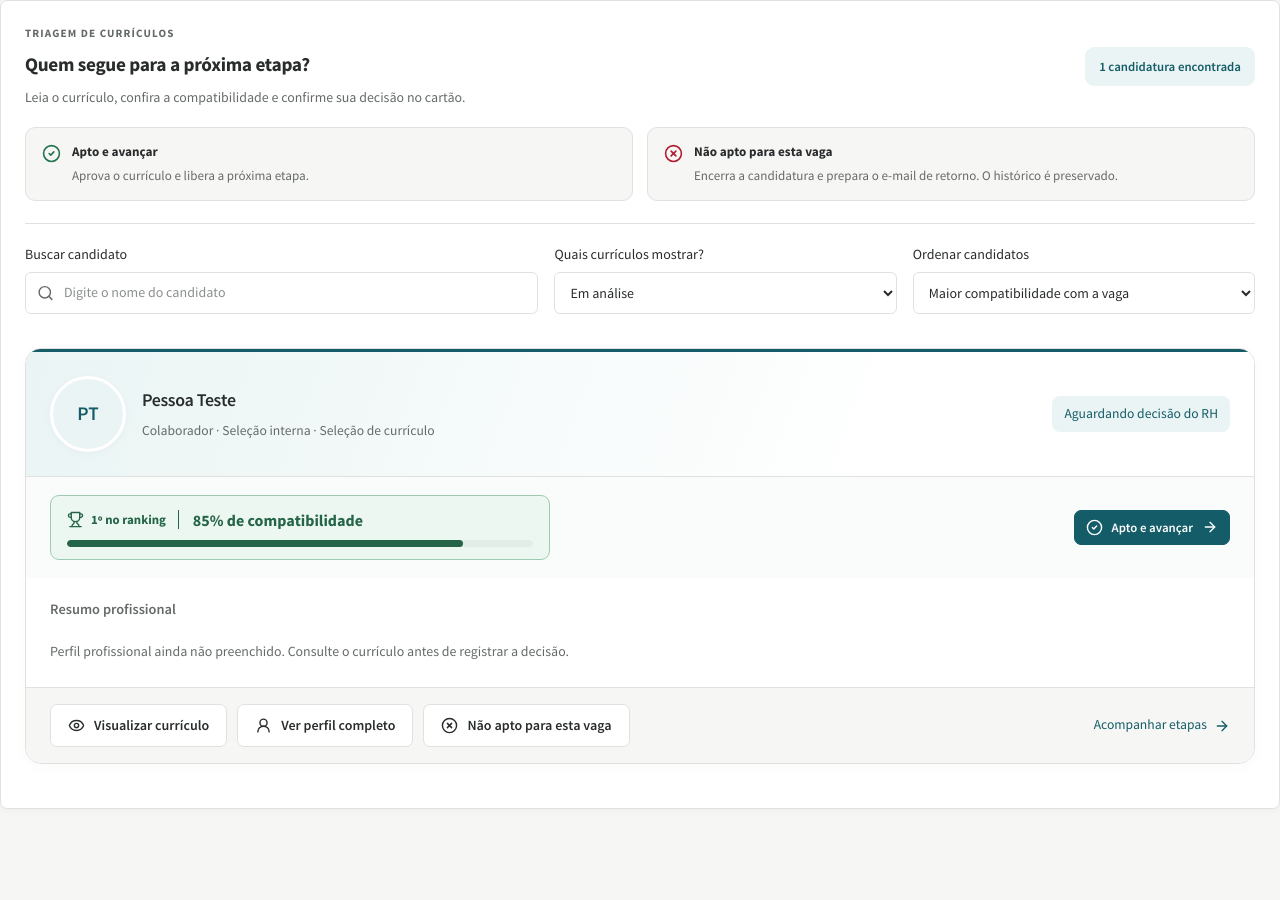
Test: exige justificativa e confirmação antes de encerrar somente a candidatura escolhida
This screenshot has width=1280, height=900.
Click the button "Não apto para esta vaga": (527, 726) [423,704,630,747]
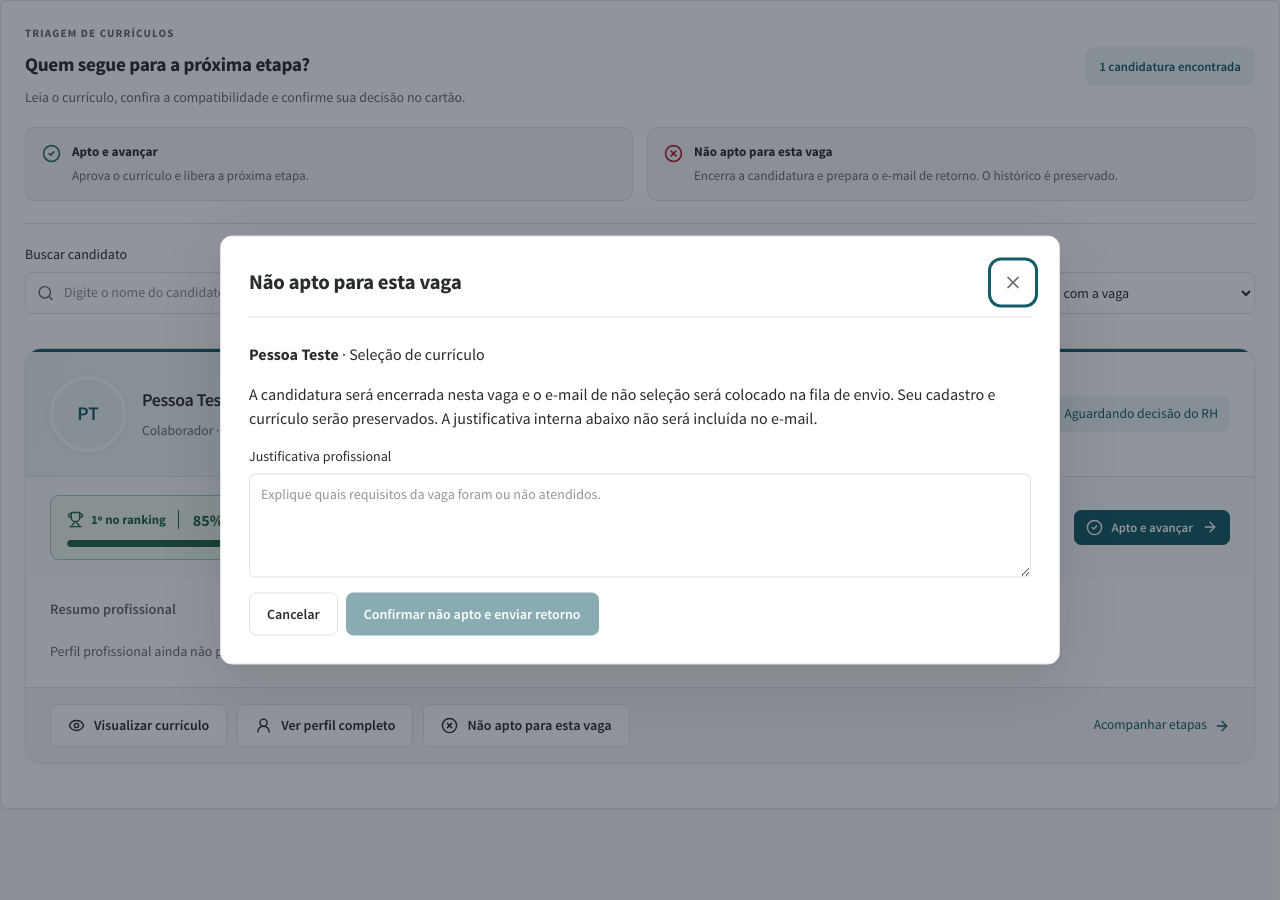
Check: the button "Confirmar não apto e enviar retorno" is disabled, box [346,592,598,636]
In the text box labelled "Justificativa profissional": (640, 526) [249,474,1031,578], type "Experiência exigida para a função não comprovada"
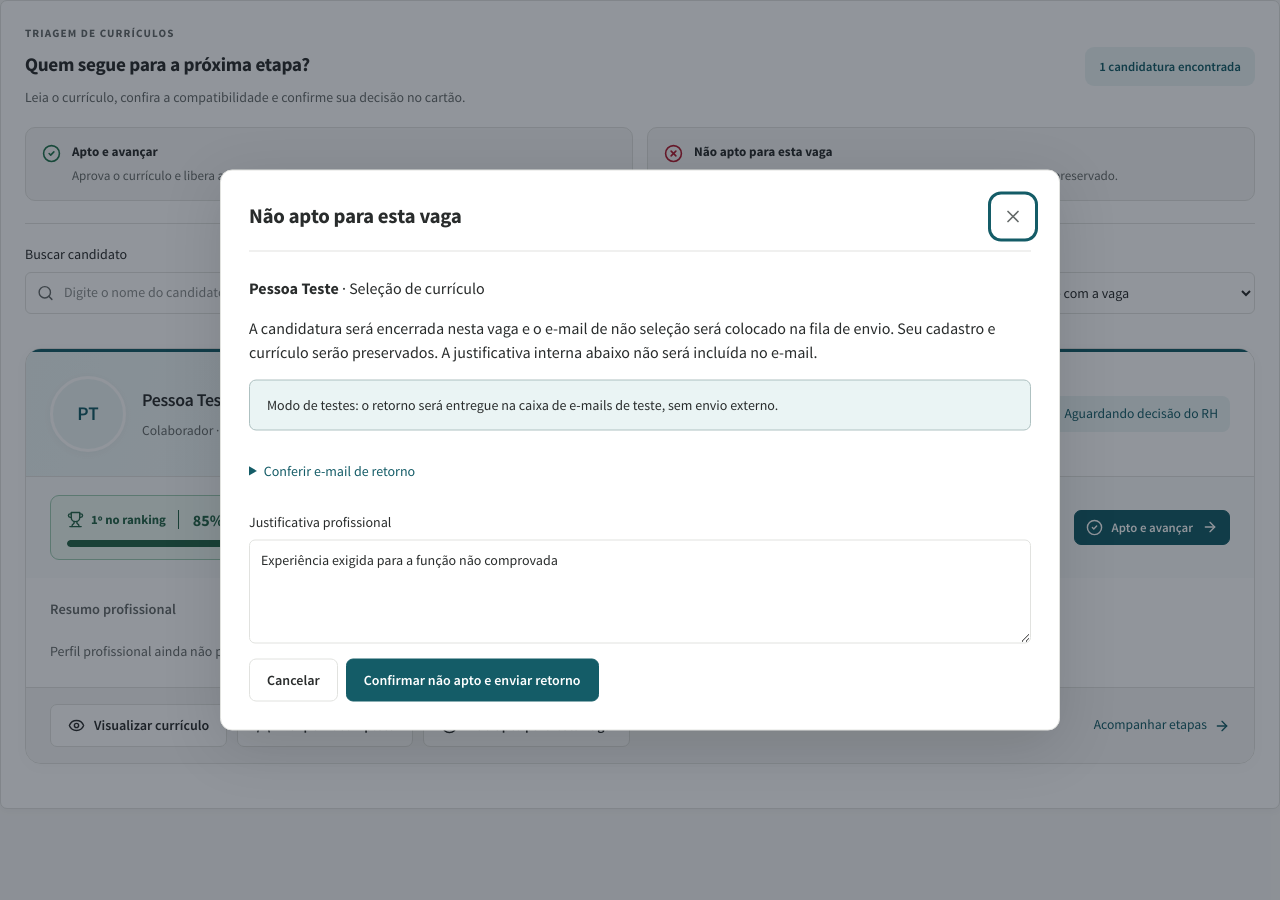
Check: the button "Confirmar não apto e enviar retorno" is enabled
Click the button "Confirmar não apto e enviar retorno": (472, 680) [346,658,598,702]
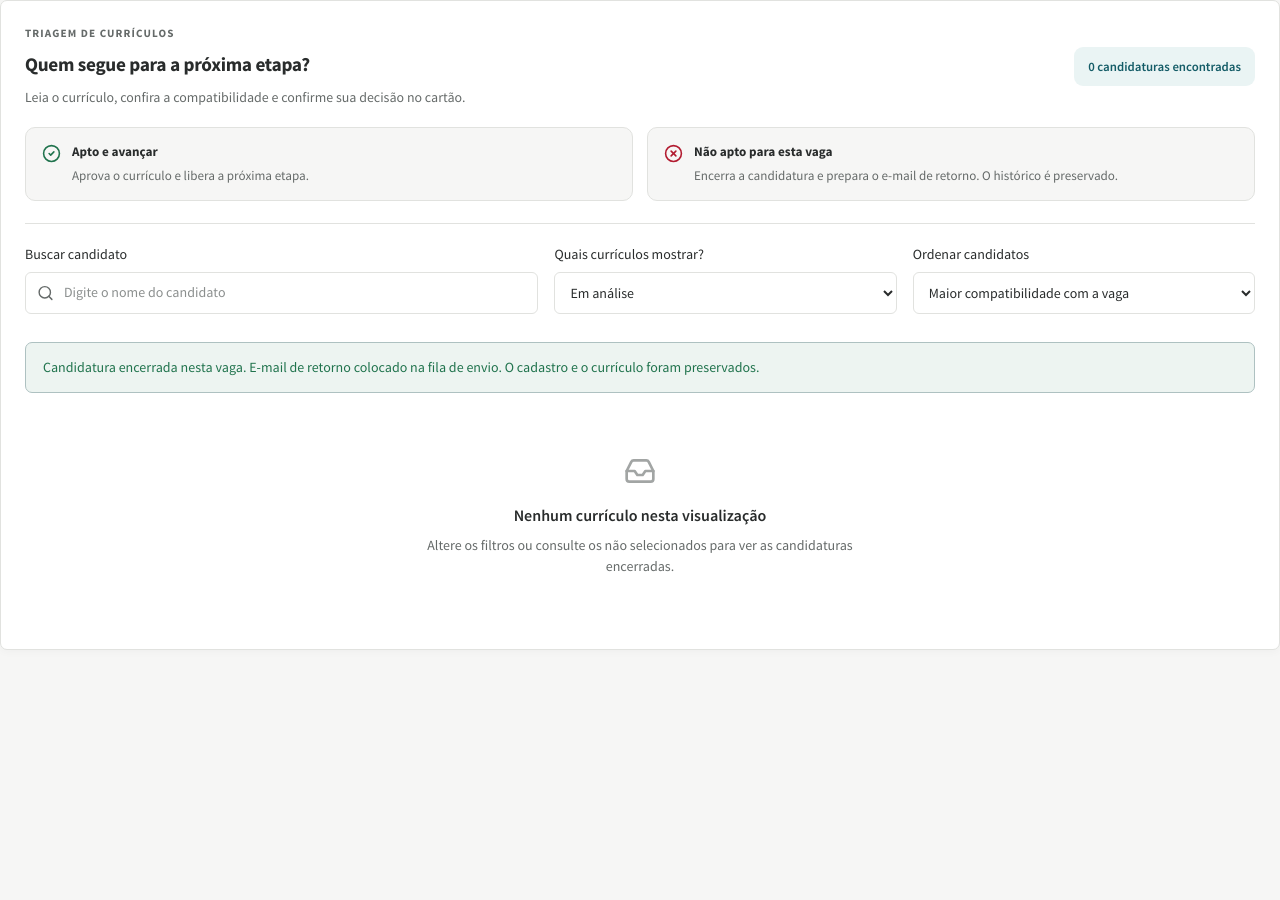
Check: the text "Candidatura encerrada nesta vaga. E-mail de retorno colocado na fila de envio. O cadastro e o currículo foram preservado" is shown, box [43,358,759,376]
Check: the heading "Nenhum currículo nesta visualização" is shown, box [514,505,766,525]
Select "Não selecionados nesta vaga" in the dropdown labelled "Quais currículos mostrar?": (726, 293) [554,272,897,314]
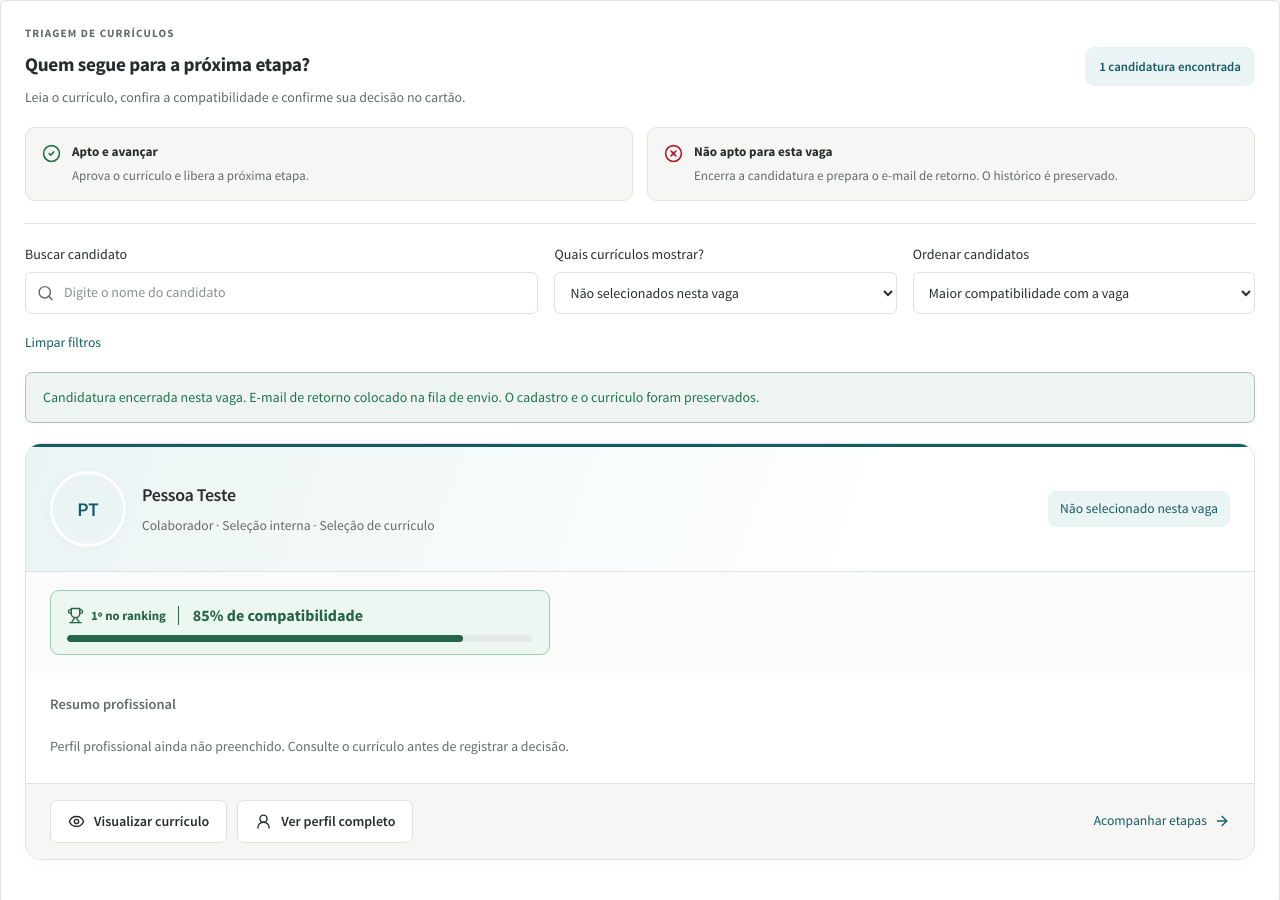
Check: the heading "Pessoa Teste" is shown, box [142,483,236,506]
